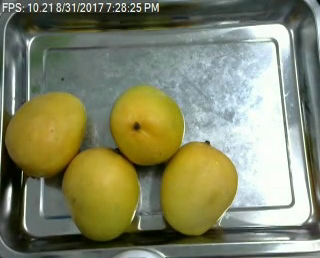Mango: (160, 140, 239, 237), (2, 91, 88, 178), (62, 146, 139, 240), (110, 87, 183, 163)
